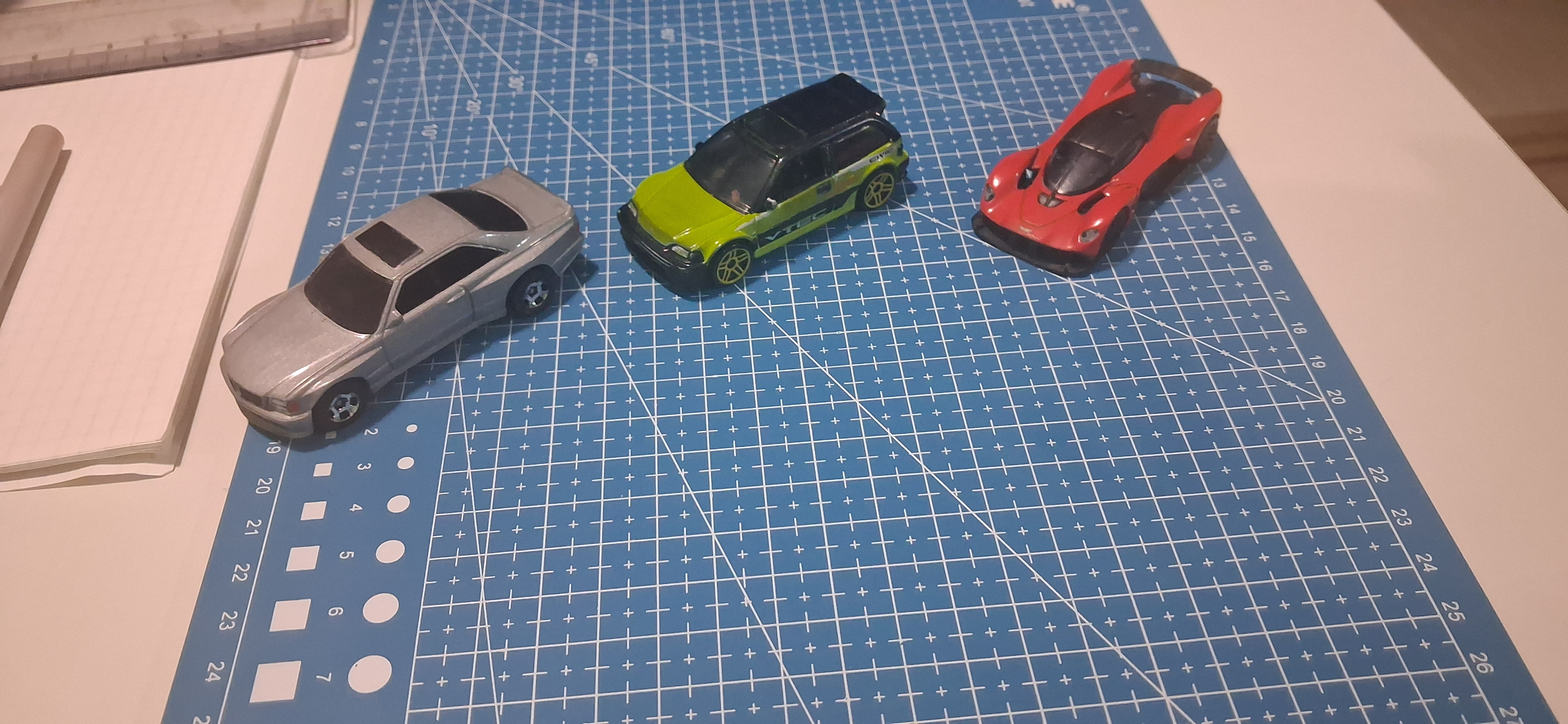Aston_Martin_Valkyrie: (955, 44, 1238, 316)
Honda_Civic: (601, 33, 913, 386)
Mercedes_Benz_560_SEC_AMG: (201, 125, 588, 506)
